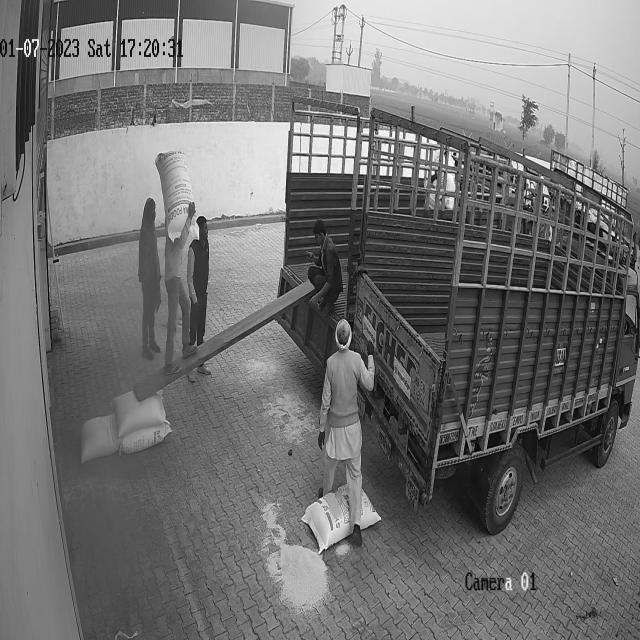sack: (301, 482, 381, 551), (156, 150, 199, 243), (110, 390, 166, 438), (79, 413, 119, 463), (120, 422, 172, 453)
